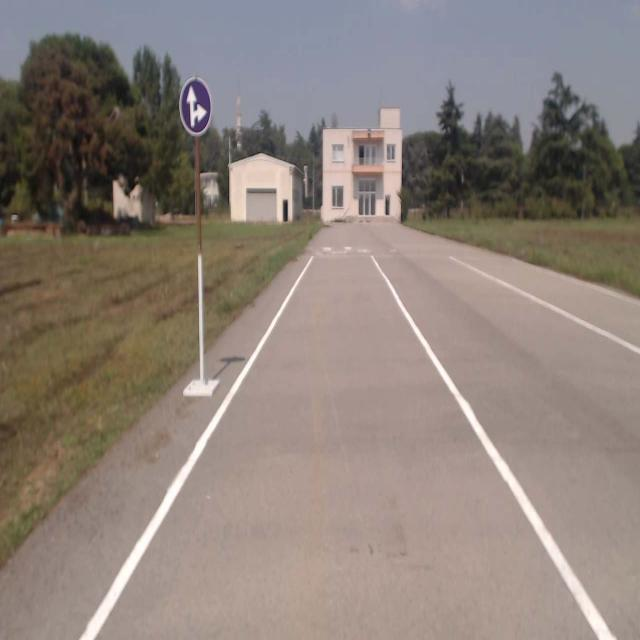ilerisag: (181, 79, 211, 134)
